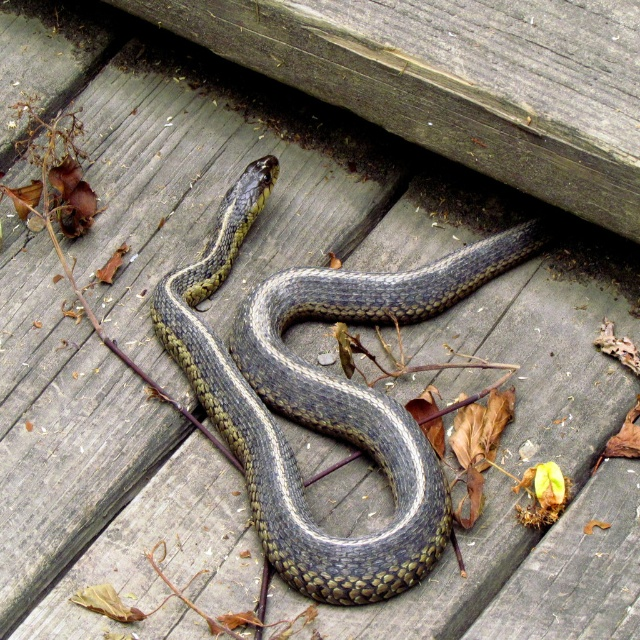Snake: (137, 137, 537, 640)
